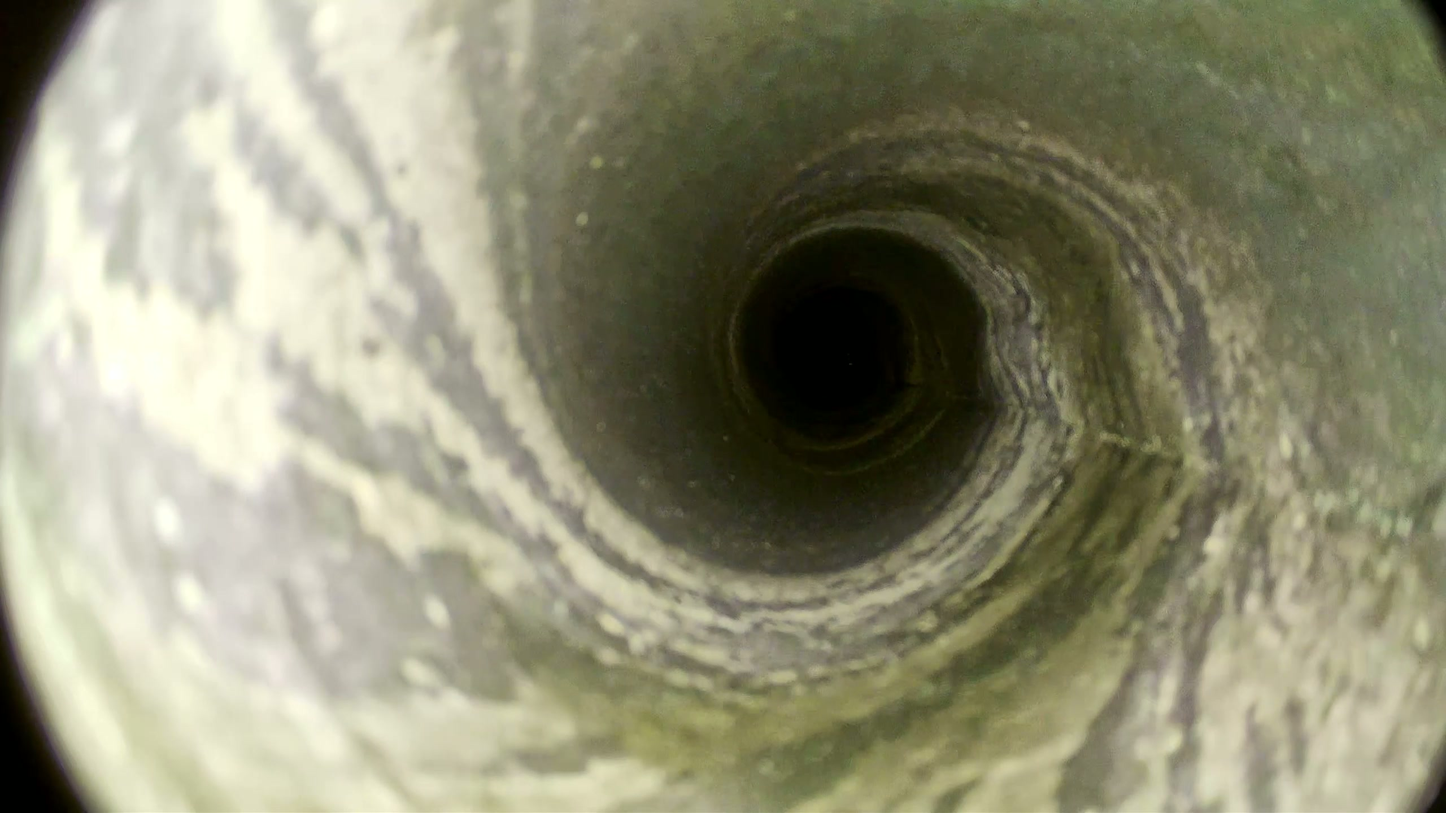hole: (774, 300, 881, 411)
